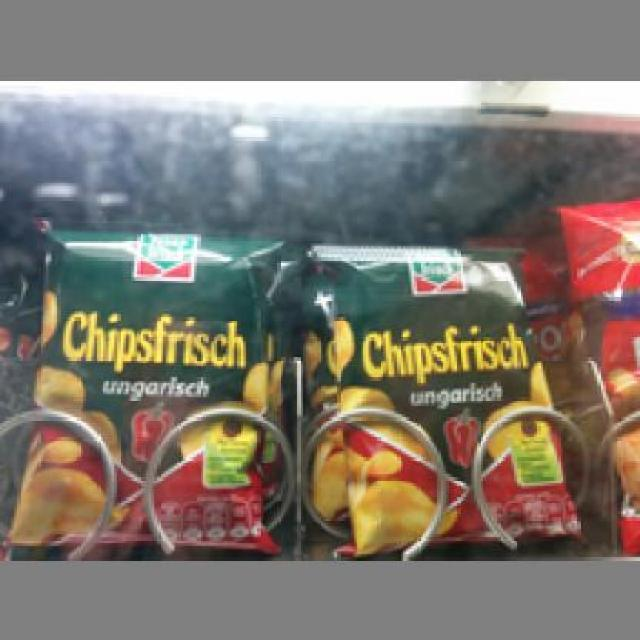Chips: (11, 220, 280, 549), (332, 237, 588, 554)
